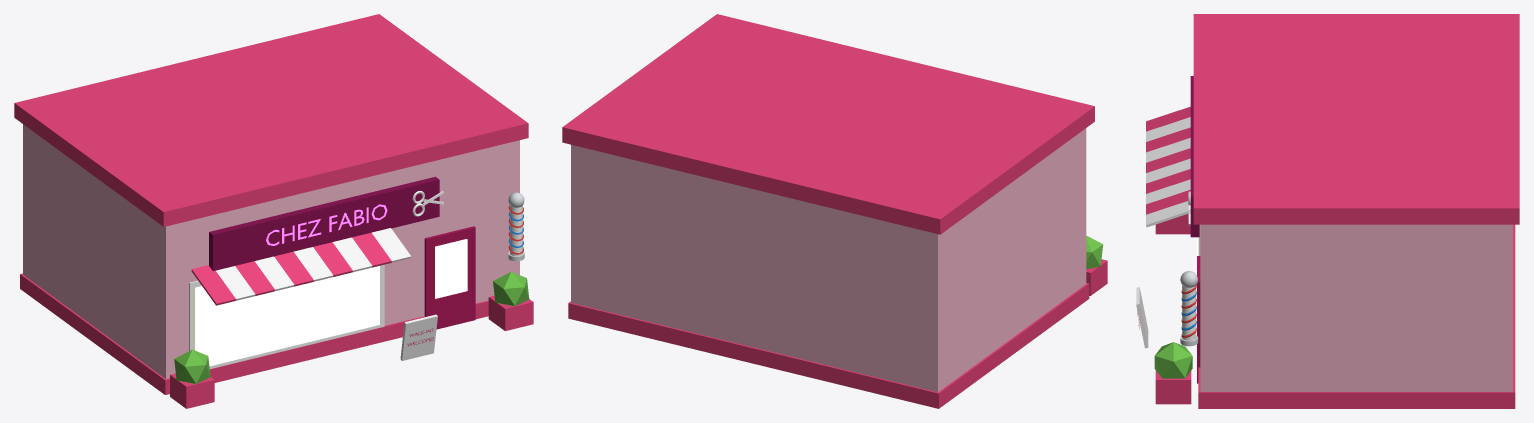
File: cameos_salon_front.glb
3 renders of one model, left to right at view 1: azimuth 30°, elevation 25°; view 2: azimuth 150°, elevation 25°; view 3: azimuth 270°, elevation 25°, orthographic. The views are drawn at different scales.
Parts seen in each view (by area): view 1: SalonFront_body, Pole; view 2: SalonFront_body; view 3: SalonFront_body, Pole.
Part boxes in pixels (x1,y1,x2,y2): SalonFront_body: [14, 14, 533, 408]; Pole: [508, 192, 524, 261]; SalonFront_body: [562, 14, 1107, 408]; SalonFront_body: [1136, 14, 1519, 408]; Pole: [1180, 271, 1198, 346].
Size of the model in its own units: 10.3 by 5 by 8.59.
